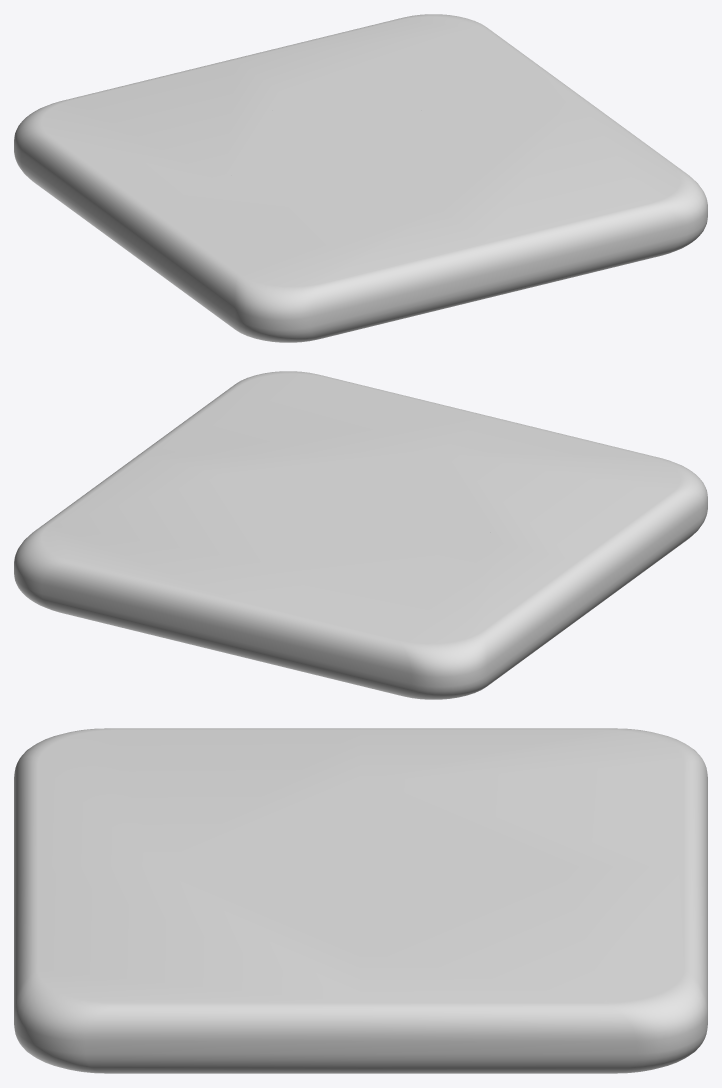
File: platformorbayiso2.fbx
3 views of the same model, one above another, from view 1: azimuth 30°, elevation 25°; view 2: azimuth 150°, elevation 25°; view 3: azimuth 270°, elevation 25° (orthographic). The views are drawn at different scales.
Parts seen in each view (by area): view 1: Cube.007, Cube.008, Cube.006, Cube.005, Cube.009; view 2: Cube.006, Cube.005, Cube.007, Cube.008, Cube.009; view 3: Cube.005, Cube.008, Cube.006, Cube.007, Cube.009.
Part boxes in pixels (x1=…): Cube.007: x1=128, y1=185, x2=495, y2=342; Cube.008: x1=439, y1=98, x2=707, y2=297; Cube.006: x1=14, y1=59, x2=282, y2=255; Cube.005: x1=233, y1=14, x2=585, y2=118; Cube.009: x1=225, y1=94, x2=496, y2=208; Cube.006: x1=226, y1=542, x2=593, y2=699; Cube.005: x1=14, y1=455, x2=282, y2=654; Cube.007: x1=439, y1=416, x2=707, y2=612; Cube.008: x1=136, y1=371, x2=488, y2=475; Cube.009: x1=225, y1=451, x2=496, y2=565; Cube.005: x1=361, y1=866, x2=707, y2=1073; Cube.008: x1=14, y1=866, x2=360, y2=1073; Cube.006: x1=361, y1=728, x2=707, y2=892; Cube.007: x1=14, y1=728, x2=360, y2=892; Cube.009: x1=159, y1=781, x2=562, y2=951.
Size of the model in its own units: 673 by 73.67 by 673.
1 material, 1 textured.
